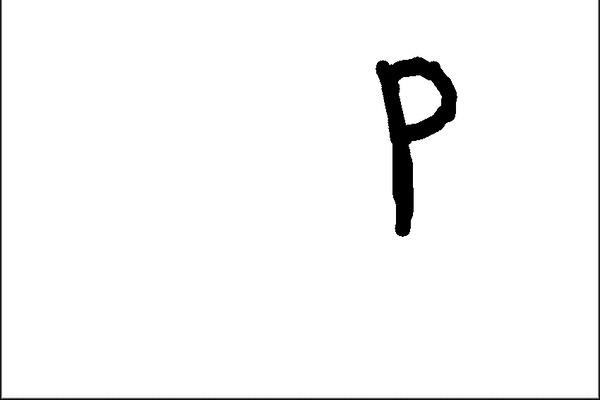P: (358, 44, 480, 246)
